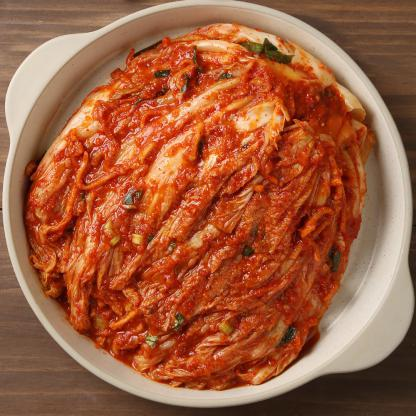kimchi: (13, 31, 366, 382)
